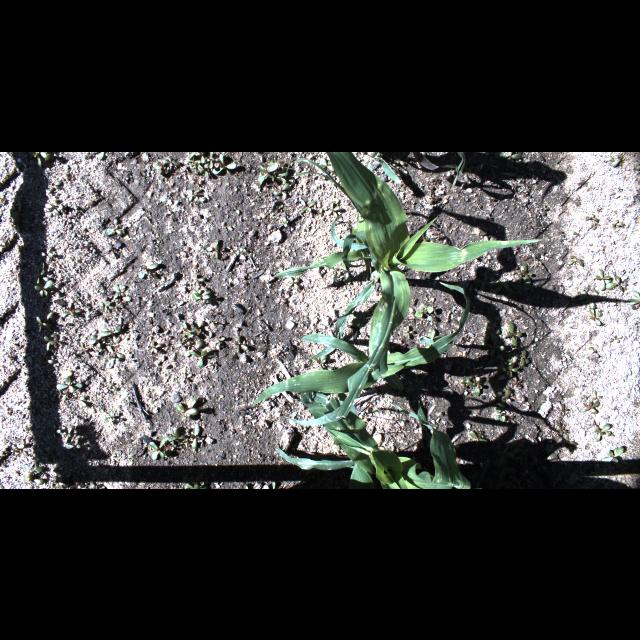crop: (272, 151, 548, 341), (238, 280, 472, 426), (274, 394, 472, 488), (373, 154, 402, 182), (452, 151, 468, 187), (410, 154, 444, 168)
weed: (180, 424, 214, 450), (202, 152, 238, 176), (559, 422, 593, 443), (176, 394, 200, 418), (462, 372, 486, 396), (146, 436, 172, 458), (154, 154, 184, 172), (257, 160, 277, 186), (504, 322, 524, 348), (56, 376, 82, 394), (179, 327, 201, 348), (107, 346, 127, 368), (186, 347, 208, 367), (32, 277, 56, 295), (23, 464, 44, 484), (107, 218, 131, 235), (590, 424, 614, 441), (594, 270, 614, 290), (136, 260, 158, 278), (21, 443, 43, 461), (55, 425, 79, 441), (411, 304, 434, 320), (30, 268, 48, 288), (516, 262, 534, 282), (503, 360, 523, 378), (64, 300, 86, 316), (468, 428, 490, 444), (604, 446, 626, 462), (66, 435, 90, 449), (206, 239, 224, 257), (517, 348, 535, 366), (116, 316, 132, 336), (580, 396, 600, 412), (190, 286, 212, 300), (268, 184, 290, 198), (234, 334, 250, 352), (326, 201, 344, 217), (420, 329, 436, 347), (498, 151, 522, 163), (44, 199, 64, 213), (90, 331, 104, 351), (498, 388, 518, 402), (588, 303, 600, 325), (186, 160, 206, 173), (586, 342, 602, 358), (33, 153, 51, 167), (102, 411, 120, 425), (495, 408, 513, 422), (614, 274, 628, 290), (84, 152, 110, 160), (41, 244, 54, 260), (46, 331, 56, 351), (114, 284, 128, 298), (98, 294, 110, 310), (36, 316, 48, 332), (300, 199, 316, 211), (586, 214, 602, 226), (191, 273, 205, 285), (20, 435, 32, 449), (612, 216, 626, 228), (571, 254, 585, 266), (187, 187, 199, 200), (149, 341, 163, 351), (49, 353, 60, 363), (278, 216, 288, 227), (185, 482, 212, 486)
